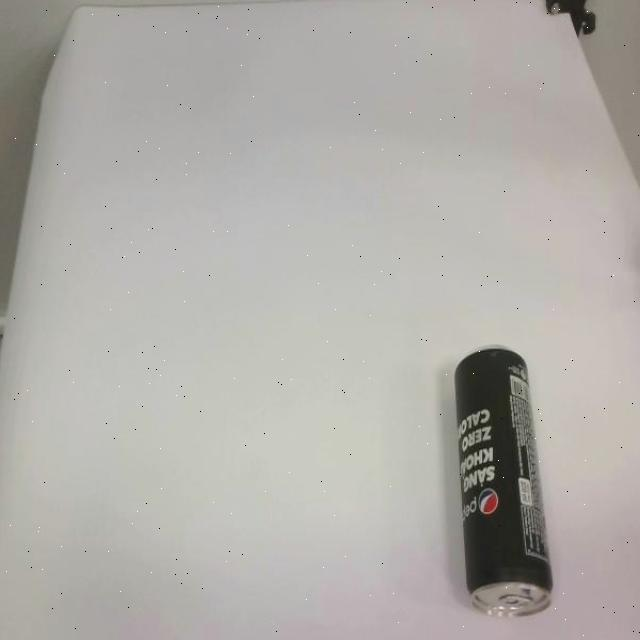debris: (453, 346, 554, 620)
